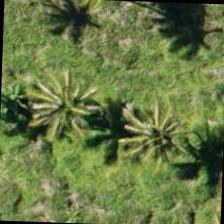Kelapa_Sawit: (23, 62, 116, 155), (108, 90, 200, 183)
